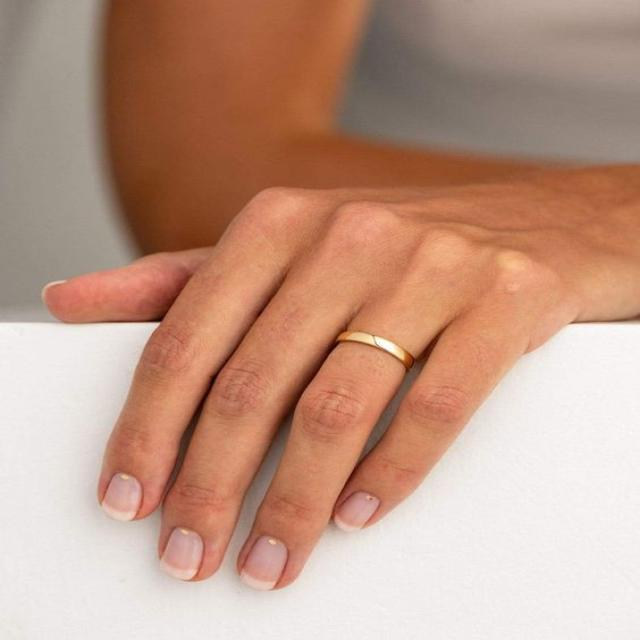Fingernail: (241, 536, 288, 591), (160, 528, 203, 582), (102, 473, 142, 521), (336, 491, 380, 532)
